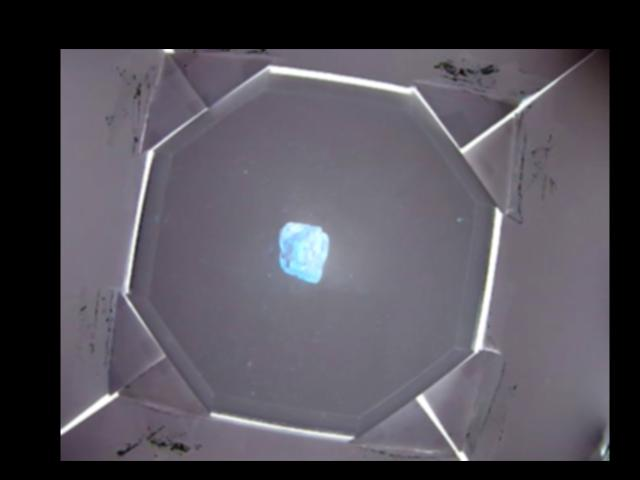Brisk: (279, 222, 326, 283)
